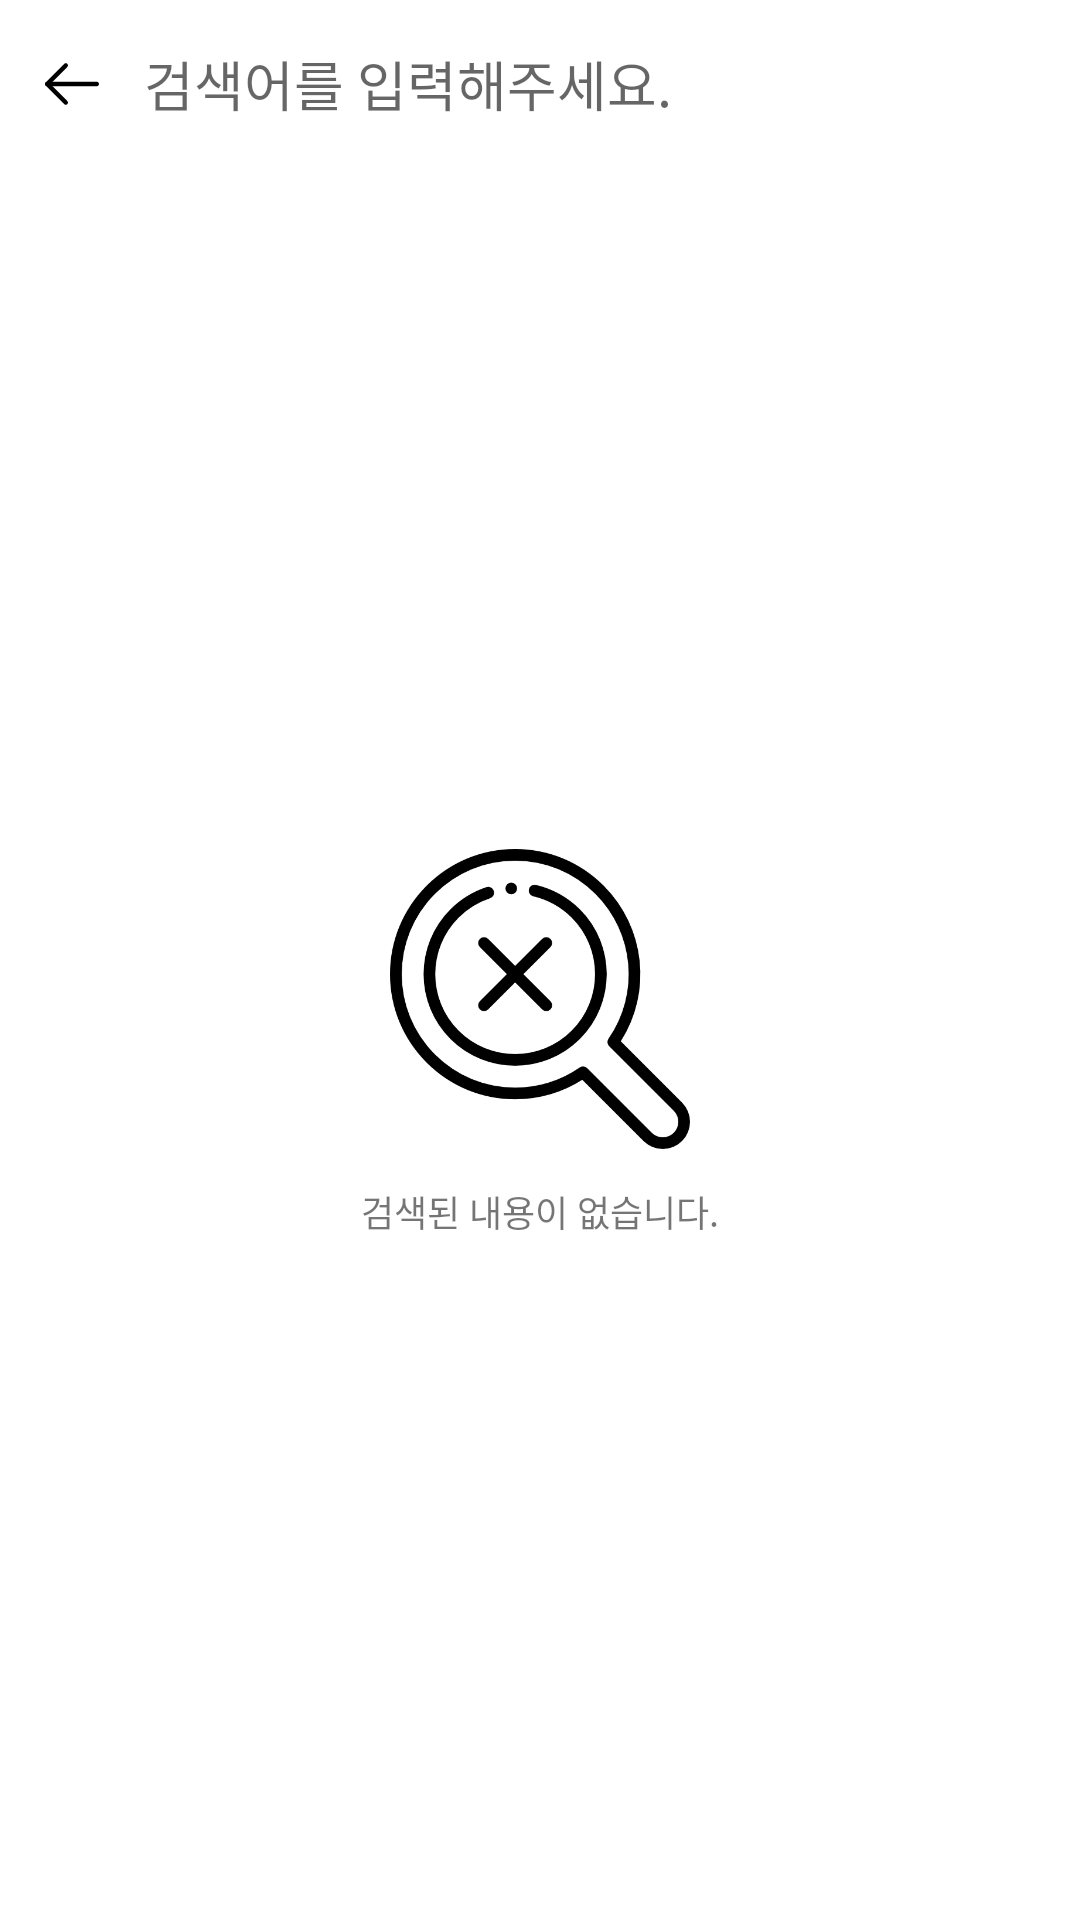

Named icons in this screenshot (1080×1920) and their bounding boxes, (x1, y1, x2, y2):
back: (45, 63, 99, 105)
